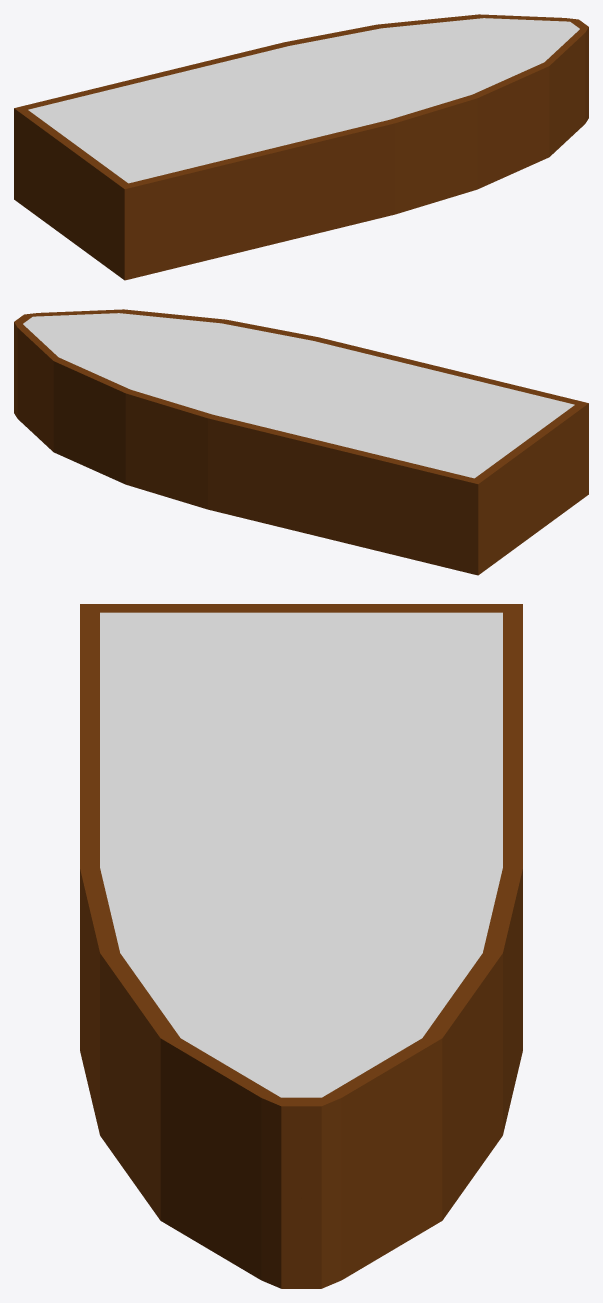
File: boat.fbx
3 views of the same model, one above another, from view 1: azimuth 30°, elevation 25°; view 2: azimuth 150°, elevation 25°; view 3: azimuth 270°, elevation 25° (orthographic). The views are drawn at different scales.
Parts seen in each view (by area): view 1: Cube.001, sideR.001, Back, sideR.002, sideR.003, sideR.004, sideL.001, front, sideL.003, sideL.002, sideL.004; view 2: Cube.001, sideL.001, Back, sideL.002, sideL.003, sideL.004, sideR.001, front, sideR.003, sideR.002, sideR.004; view 3: Cube.001, sideL.004, sideR.004, front, sideL.003, sideR.003, sideL.002, sideR.002, sideL.001, sideR.001, Back.
Boxes of the visible parts, x1,y1,x2,y2 form: Cube.001: [28, 18, 579, 183]; sideR.001: [128, 119, 394, 278]; Back: [14, 106, 133, 280]; sideR.002: [390, 94, 477, 214]; sideR.003: [472, 62, 549, 189]; sideR.004: [544, 29, 585, 156]; sideL.001: [23, 42, 288, 109]; front: [565, 18, 588, 123]; sideL.003: [377, 14, 483, 28]; sideL.002: [284, 24, 380, 45]; sideL.004: [479, 14, 569, 21]; Cube.001: [23, 313, 574, 478]; sideL.001: [208, 414, 474, 573]; Back: [469, 401, 588, 575]; sideL.002: [125, 389, 212, 509]; sideL.003: [53, 357, 130, 484]; sideL.004: [17, 324, 58, 451]; sideR.001: [314, 337, 579, 404]; front: [14, 313, 37, 418]; sideR.003: [119, 309, 225, 323]; sideR.002: [222, 319, 318, 340]; sideR.004: [33, 309, 123, 316]; Cube.001: [100, 612, 502, 1097]; sideL.004: [322, 1038, 442, 1279]; sideR.004: [160, 1038, 280, 1279]; front: [261, 1097, 341, 1288]; sideL.003: [422, 953, 502, 1220]; sideR.003: [100, 953, 180, 1220]; sideL.002: [483, 868, 522, 1134]; sideR.002: [80, 868, 119, 1134]; sideL.001: [503, 612, 522, 867]; sideR.001: [80, 612, 99, 867]; Back: [80, 604, 522, 612].
Size of the model in its own units: 590 by 100 by 220.
